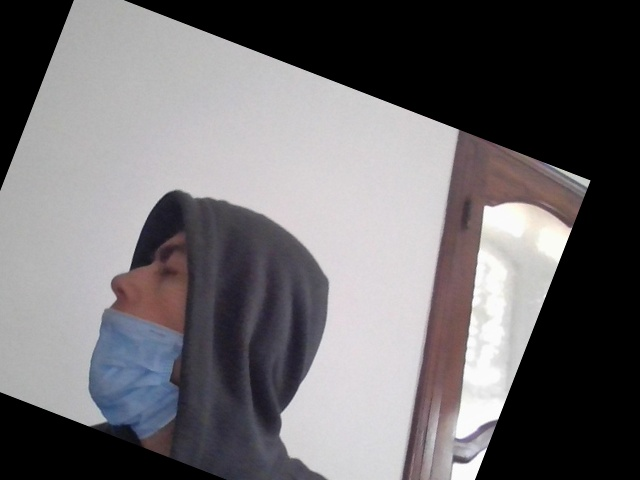mask_weared_incorrect: (86, 229, 210, 441)
